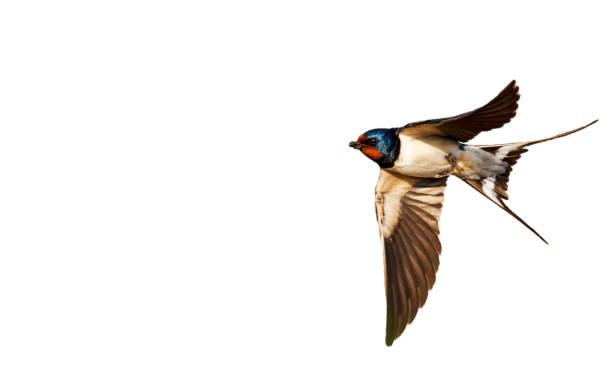Bird: (345, 76, 600, 348)
